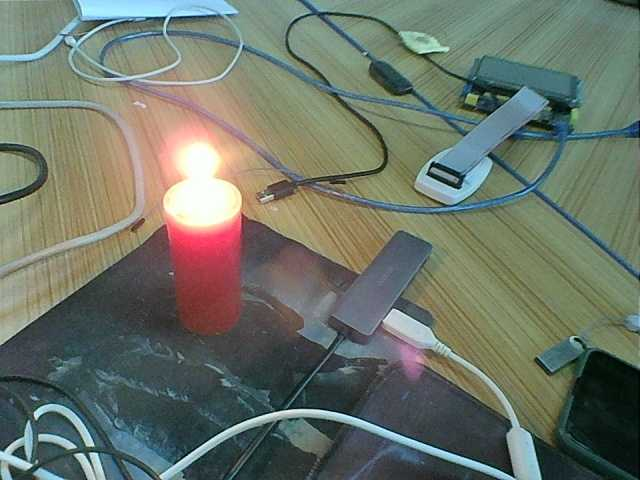candle: (149, 220, 257, 332)
fire: (158, 138, 244, 219)
